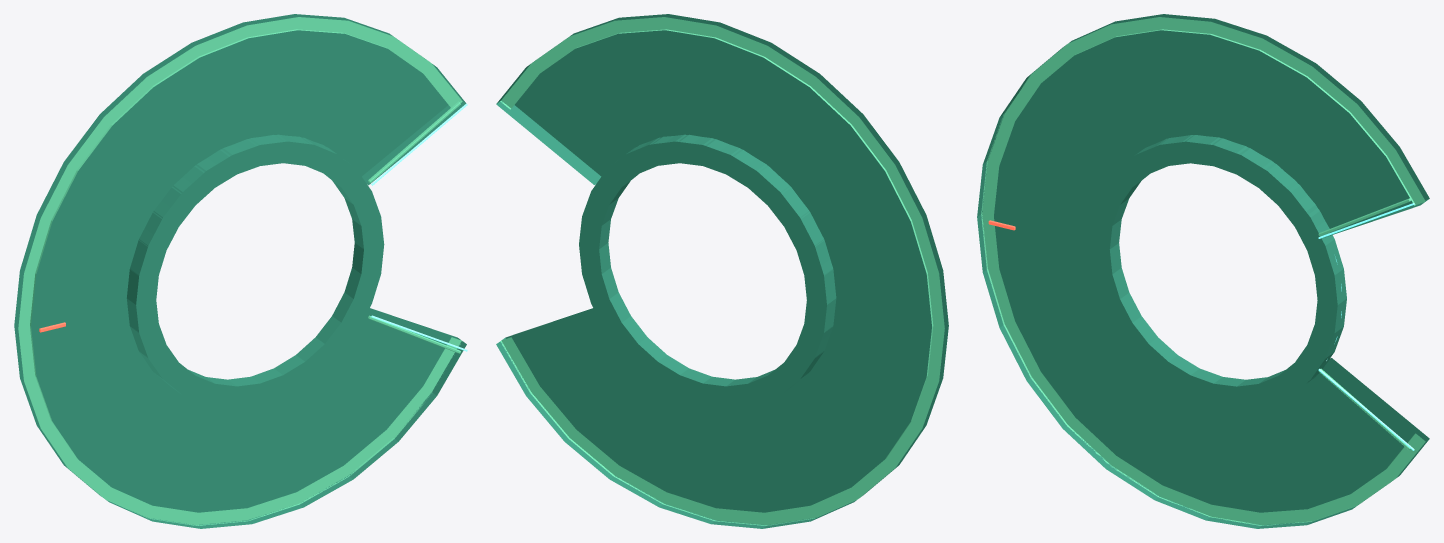
Rendered from bio-panel-fun4-low.glb.
The picture shows the model from 3 angles, left to right: view 1: azimuth 30°, elevation 25°; view 2: azimuth 150°, elevation 25°; view 3: azimuth 330°, elevation 25°; orthographic projection.
Parts seen in each view (by area): view 1: RENDER_PANEL_SHELL, RENDER_PANEL_FRAME, RENDER_PANEL_SIGNAL; view 2: RENDER_PANEL_SHELL, RENDER_PANEL_FRAME; view 3: RENDER_PANEL_SHELL, RENDER_PANEL_FRAME, RENDER_PANEL_SIGNAL.
Part boxes in pixels (x1,y1,x2,y2): RENDER_PANEL_SHELL: (14,14,466,528); RENDER_PANEL_FRAME: (18,17,462,525); RENDER_PANEL_SIGNAL: (371,103,467,351); RENDER_PANEL_SHELL: (496,14,948,528); RENDER_PANEL_FRAME: (500,17,944,525); RENDER_PANEL_SHELL: (977,14,1429,528); RENDER_PANEL_FRAME: (981,17,1425,525); RENDER_PANEL_SIGNAL: (1318,203,1414,450).
Size of what is drawn, in the model's own units: 38.43 by 40.98 by 1.95.
